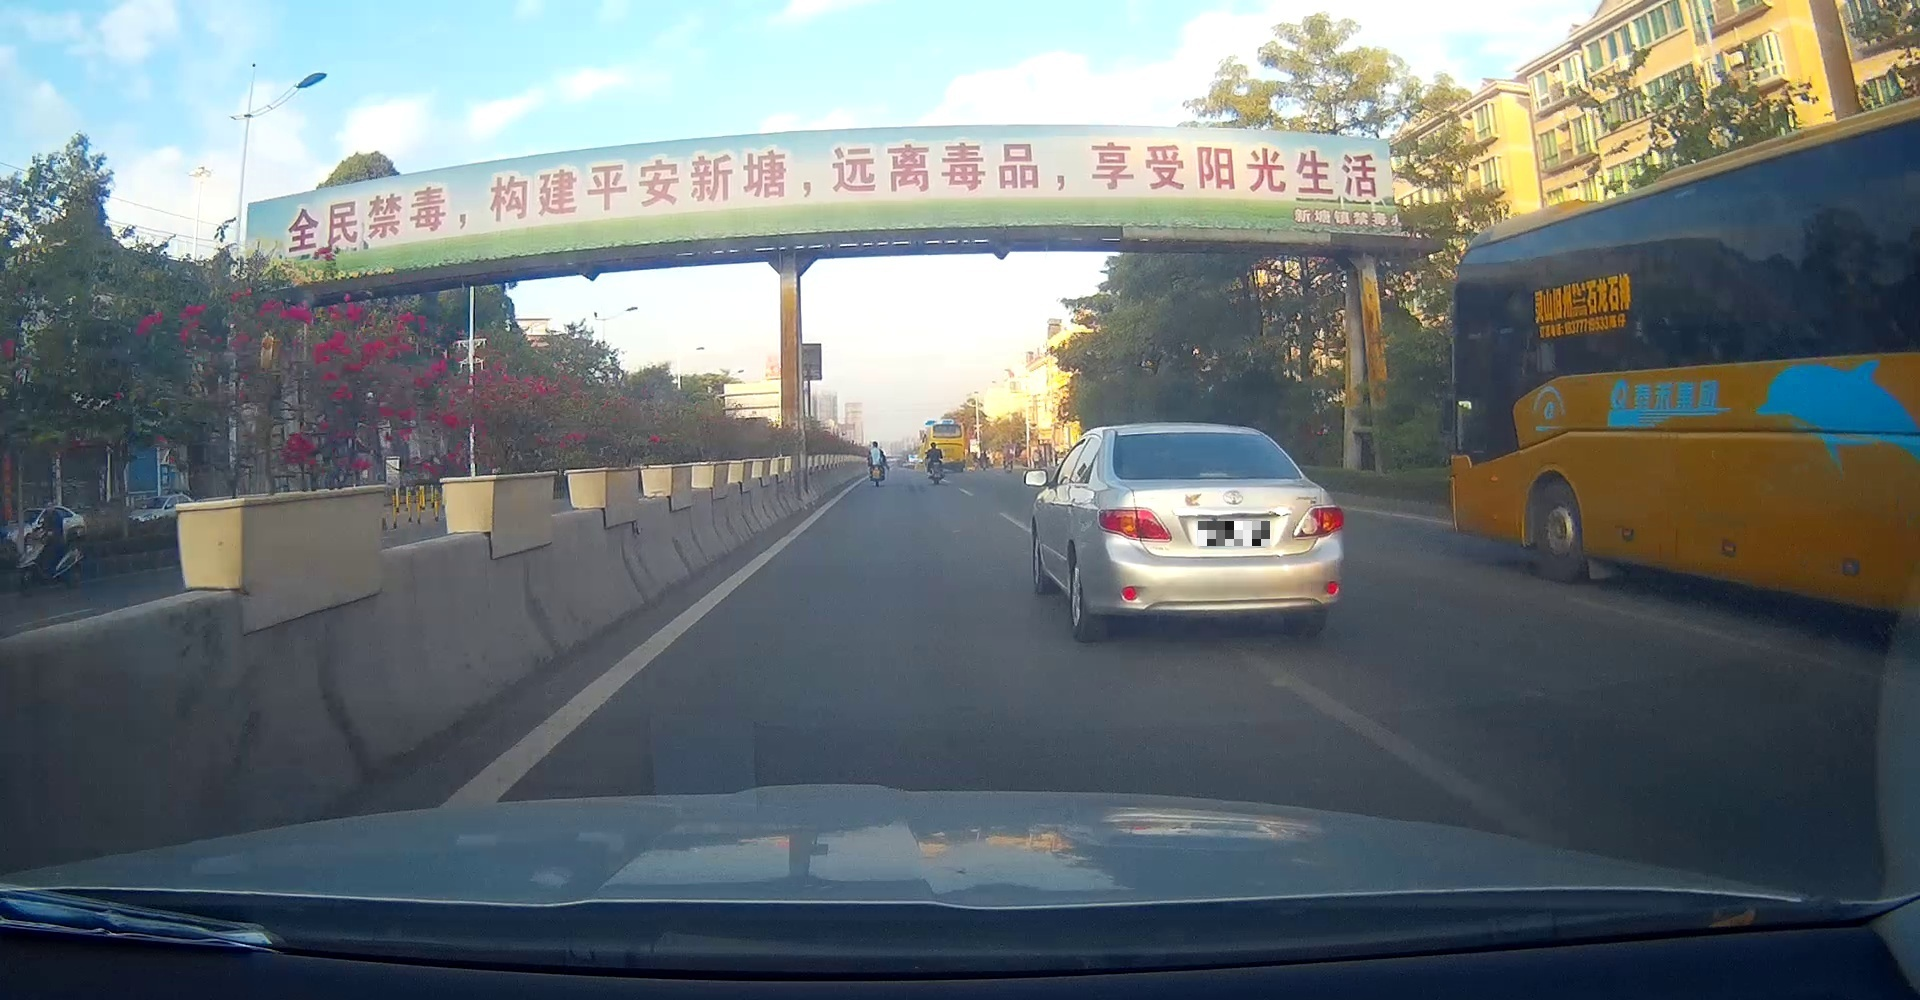L_light: (1097, 508, 1172, 543)
R_light: (1291, 505, 1343, 539)
T_light: (1199, 472, 1229, 478)
day-no: (1095, 423, 1345, 643)
plate_1: (1197, 522, 1270, 546)
